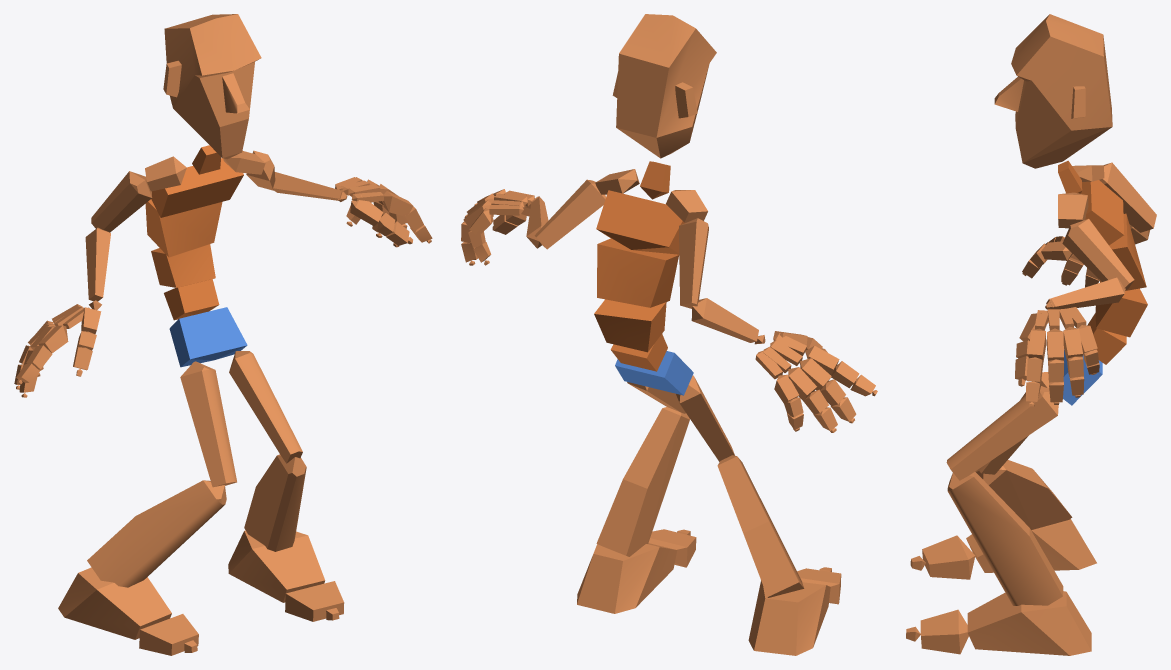
The model's file is prueba274.obj.
3 renders of one model, left to right at view 1: azimuth 30°, elevation 25°; view 2: azimuth 150°, elevation 25°; view 3: azimuth 270°, elevation 25°, orthographic. The views are drawn at different scales.
Visible parts, largest first — view 1: BOPED_Head, BOPED_R_leg, BOPED_R_foot, BOPED_R_foot01, BOPED_L_leg, BOPED_R_legup, Bone01, BOPED_L_legup, Bone04, Bone05, Bone03, BOPED_R_arm_upper (+8 smaller); view 2: BOPED_Head, BOPED_L_leg, BOPED_R_foot01, BOPED_R_leg, BOPED_R_foot, Bone04, Bone05, Bone03, BOPED_R_arm_upper, BOPED_L_arm_upper, BOPED_R_legup, Bone01 (+8 smaller); view 3: BOPED_Head, BOPED_L_leg, BOPED_R_foot01, BOPED_L_legup, BOPED_R_leg, BOPED_R_foot, BOPED_L_arm_upper, Bone05, BOPED_R_foot_toe01, BOPED_R_foot_toe04, Bone03, BOPED_R_arm_upper (+14 smaller).
Boxes of the visible parts, left/top/right/bottom form: BOPED_Head: left=163, top=14, right=261, bottom=159; BOPED_R_leg: left=87, top=480, right=226, bottom=587; BOPED_R_foot: left=58, top=567, right=171, bottom=639; BOPED_R_foot01: left=228, top=530, right=325, bottom=602; BOPED_L_leg: left=244, top=454, right=306, bottom=551; BOPED_R_legup: left=180, top=361, right=236, bottom=487; Bone01: left=169, top=307, right=247, bottom=367; BOPED_L_legup: left=229, top=351, right=302, bottom=463; Bone04: left=145, top=199, right=222, bottom=257; Bone05: left=151, top=158, right=243, bottom=217; Bone03: left=151, top=244, right=215, bottom=287; BOPED_R_arm_upper: left=91, top=171, right=152, bottom=232; BOPED_Head: left=612, top=14, right=716, bottom=158; BOPED_L_leg: left=596, top=407, right=689, bottom=556; BOPED_R_foot01: left=577, top=543, right=677, bottom=613; BOPED_R_leg: left=717, top=455, right=804, bottom=597; BOPED_R_foot: left=748, top=580, right=830, bottom=655; Bone04: left=597, top=238, right=678, bottom=307; Bone05: left=596, top=190, right=685, bottom=254; Bone03: left=594, top=299, right=666, bottom=352; BOPED_R_arm_upper: left=679, top=218, right=708, bottom=308; BOPED_L_arm_upper: left=534, top=179, right=605, bottom=249; BOPED_R_legup: left=676, top=375, right=734, bottom=461; Bone01: left=615, top=351, right=693, bottom=395; BOPED_Head: left=994, top=14, right=1112, bottom=168; BOPED_L_leg: left=947, top=472, right=1063, bottom=605; BOPED_R_foot01: left=967, top=591, right=1091, bottom=655; BOPED_L_legup: left=946, top=386, right=1058, bottom=480; BOPED_R_leg: left=975, top=460, right=1072, bottom=530; BOPED_R_foot: left=966, top=519, right=1096, bottom=572; BOPED_L_arm_upper: left=1062, top=219, right=1134, bottom=290; Bone05: left=1081, top=180, right=1124, bottom=245; BOPED_R_foot_toe01: left=922, top=535, right=975, bottom=579; BOPED_R_foot_toe04: left=920, top=609, right=968, bottom=654; Bone03: left=1095, top=288, right=1147, bottom=337; BOPED_R_arm_upper: left=1099, top=162, right=1156, bottom=232.
Size of the model in its own units: 130 by 175 by 66.74.
